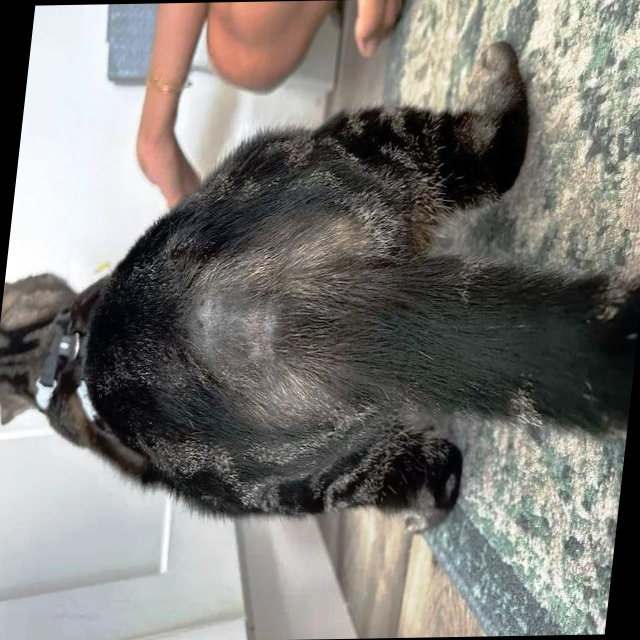hairloss: (175, 269, 296, 365)
